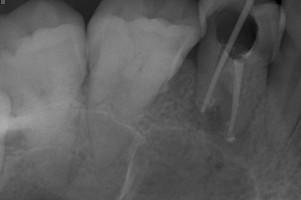Dental Caries: (188, 96, 251, 155)
